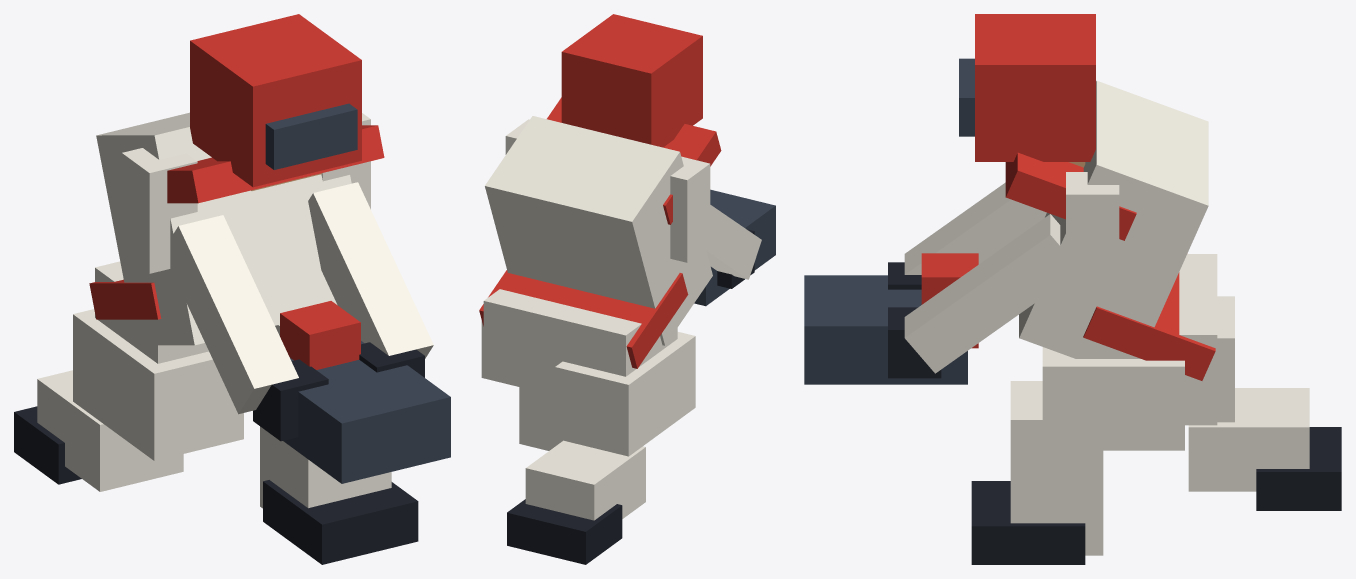
File: pitCrewKneel.glb
3 views of the same model, side by side, from view 1: azimuth 30°, elevation 25°; view 2: azimuth 150°, elevation 25°; view 3: azimuth 270°, elevation 25° (orthographic). The views are drawn at different scales.
Parts seen in each view (by area): view 1: pitCrewKneel_white, pitCrewKneel_red, pitCrewKneel_steelDark, pitCrewKneel_black; view 2: pitCrewKneel_white, pitCrewKneel_red, pitCrewKneel_black, pitCrewKneel_steelDark; view 3: pitCrewKneel_white, pitCrewKneel_red, pitCrewKneel_black, pitCrewKneel_steelDark.
Boxes of the visible parts, box(x1,y1,x2,y2) form: pitCrewKneel_white: box(37, 112, 433, 508); pitCrewKneel_red: box(89, 14, 384, 369); pitCrewKneel_steelDark: box(265, 103, 450, 483); pitCrewKneel_black: box(14, 342, 424, 564); pitCrewKneel_white: box(481, 116, 761, 520); pitCrewKneel_red: box(479, 14, 721, 368); pitCrewKneel_black: box(507, 229, 754, 564); pitCrewKneel_steelDark: box(694, 189, 775, 306); pitCrewKneel_white: box(904, 80, 1309, 555); pitCrewKneel_red: box(921, 14, 1215, 380); pitCrewKneel_black: box(888, 262, 1341, 564); pitCrewKneel_steelDark: box(804, 58, 974, 384).
Bounding box in the file's own units: 0.69 × 1.47 × 1.51.
